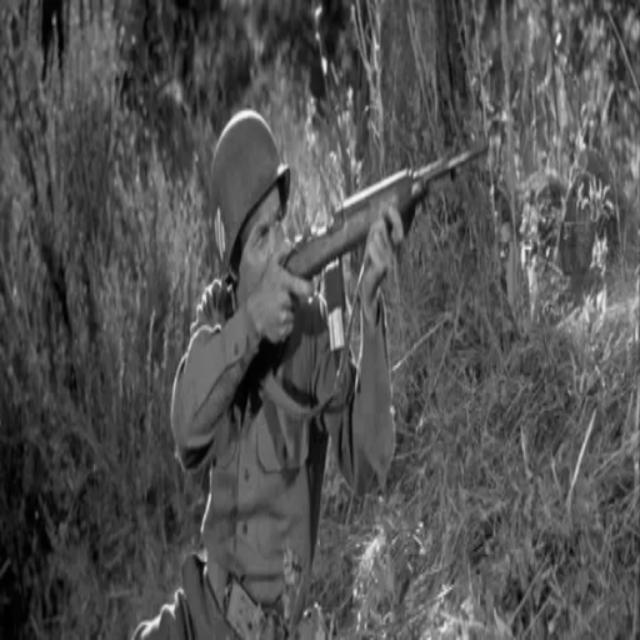other: (166, 119, 370, 634)
